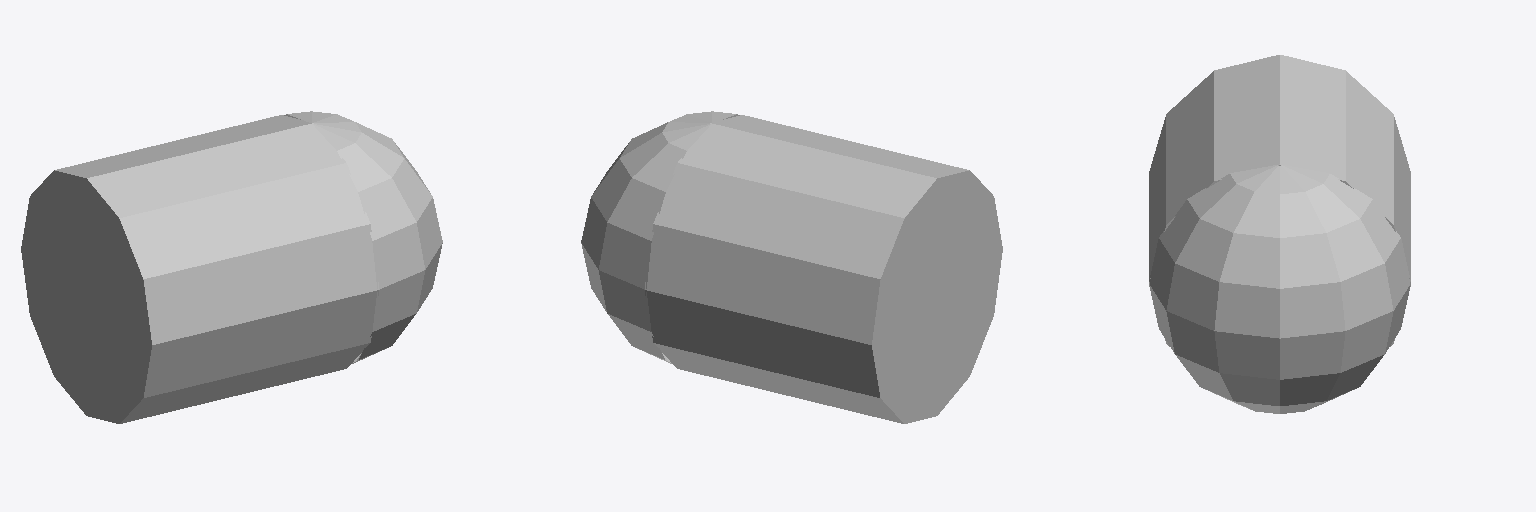
File: Missile.obj
3 views of the same model, side by side, from view 1: azimuth 30°, elevation 25°; view 2: azimuth 150°, elevation 25°; view 3: azimuth 270°, elevation 25° (orthographic).
Visible parts, largest first — view 1: Sphere; view 2: Sphere; view 3: Sphere.
Part boxes in pixels (bbox=[...]): Sphere: bbox=[21, 111, 442, 423]; Sphere: bbox=[581, 111, 1002, 423]; Sphere: bbox=[1149, 55, 1410, 413].
Bounding box in the file's own units: 2.98 × 2 × 2.